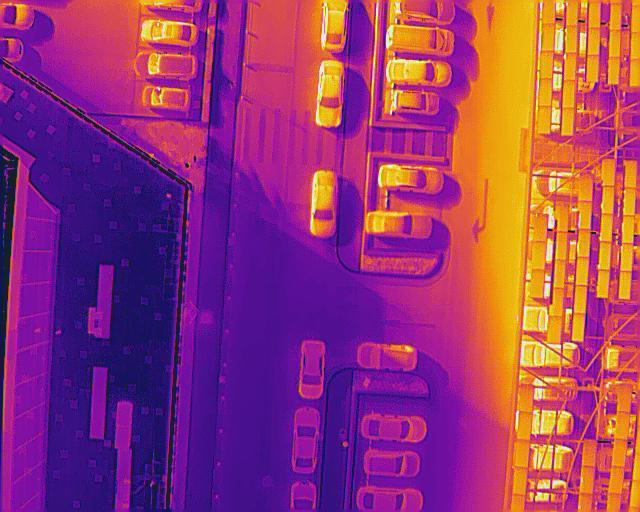Cell: (579, 466, 595, 495), (533, 214, 547, 242), (598, 242, 610, 271), (564, 54, 576, 82), (566, 1, 580, 25)
Cell-Multi: (565, 26, 577, 53)
No-Anomaly: (608, 466, 624, 494), (513, 467, 528, 496), (612, 439, 627, 468), (548, 316, 563, 344), (517, 412, 532, 440), (618, 384, 632, 413), (583, 438, 597, 467), (514, 440, 529, 467), (541, 23, 555, 51), (616, 412, 630, 439), (572, 312, 585, 341), (576, 257, 589, 286), (540, 50, 553, 79), (531, 269, 544, 297), (520, 386, 534, 412), (600, 214, 613, 242), (579, 174, 592, 202), (586, 54, 599, 82), (619, 271, 632, 298), (539, 79, 552, 106), (575, 284, 587, 313), (563, 80, 575, 109), (621, 244, 633, 272), (554, 261, 566, 288), (533, 242, 545, 269), (623, 188, 635, 215), (562, 109, 574, 136), (538, 106, 550, 133), (587, 28, 599, 55), (556, 231, 567, 260), (609, 29, 620, 58), (601, 187, 613, 213), (603, 160, 615, 186), (553, 288, 564, 316), (598, 270, 609, 298), (622, 215, 633, 243), (625, 160, 636, 188), (608, 58, 619, 84), (609, 4, 620, 30), (589, 2, 600, 28)
Unclassified: (578, 201, 591, 229), (577, 229, 589, 257)
